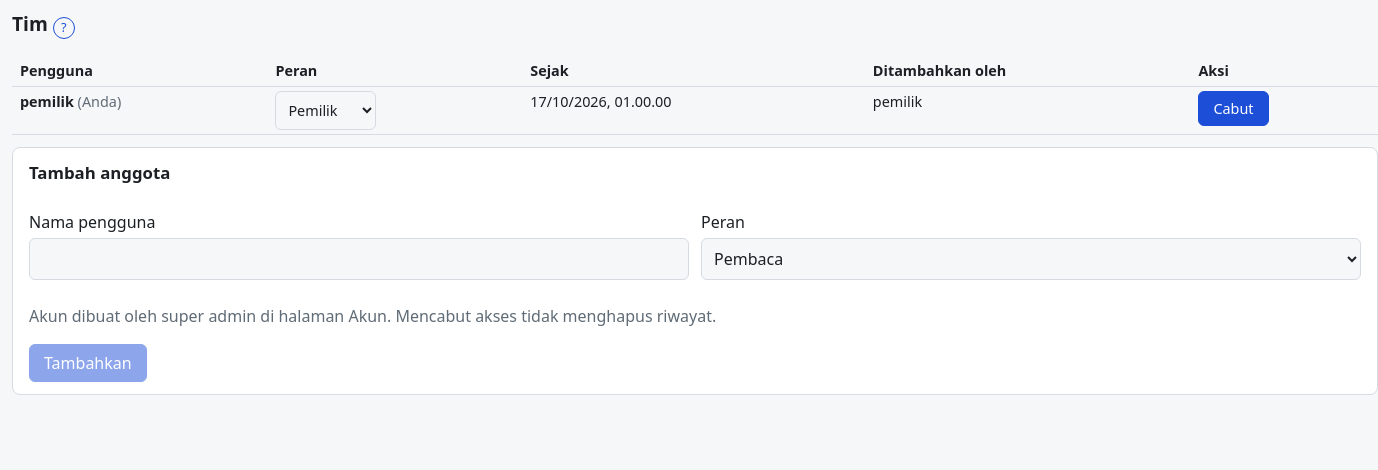
Test: TeamPanel: mengubah peran dan mencabut › menurunkan Pemilik terakhir: pesan server ditampilkan
Select "Pembaca" in the dropdown named "Peran pemilik": (326, 110) [275,91,376,130]
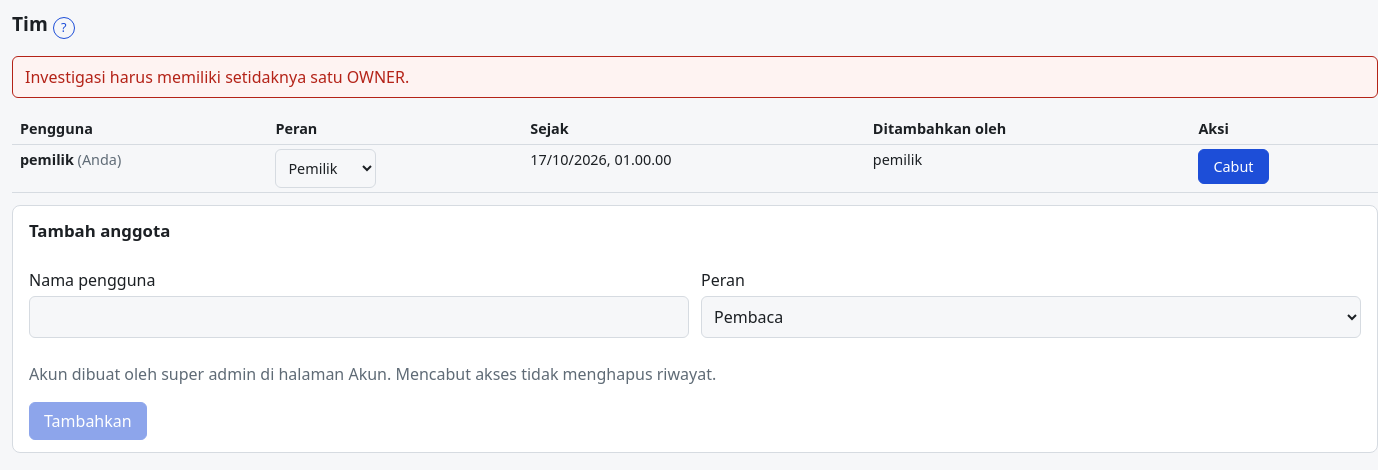
Check: the message shows "setidaknya satu OWNER", box [25,66,409,88]
